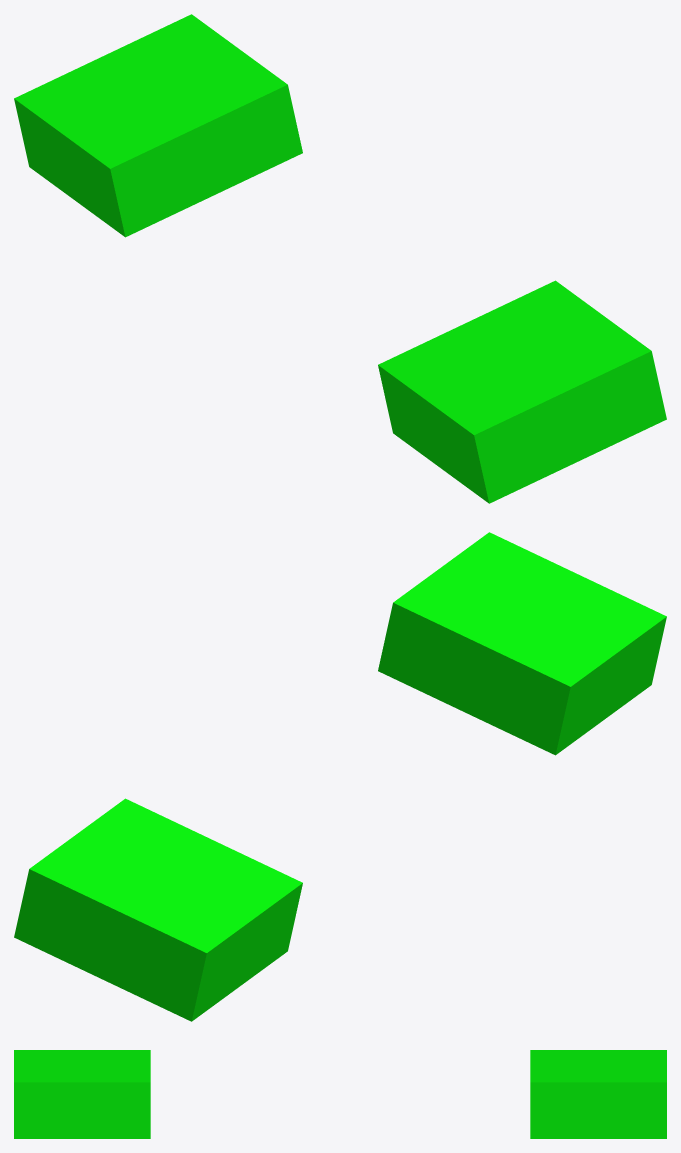
File: eyes01.glb
3 renders of one model, top to bottom at view 1: azimuth 30°, elevation 25°; view 2: azimuth 150°, elevation 25°; view 3: azimuth 270°, elevation 25°, orthographic. The views are drawn at different scales.
Parts seen in each view (by area): view 1: Cube.001; view 2: Cube.001; view 3: Cube.001.
Boxes of the visible parts, x1=… form: Cube.001: x1=14, y1=14, x2=666, y2=503; Cube.001: x1=14, y1=532, x2=666, y2=1021; Cube.001: x1=14, y1=1050, x2=666, y2=1138.
Size of the model in its own units: 0.2841 by 0.1594 by 1.17.
